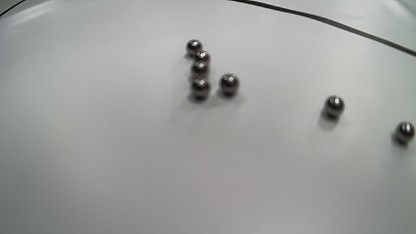ironball: (323, 95, 344, 118), (394, 121, 415, 144), (219, 73, 239, 96), (191, 78, 210, 100), (191, 60, 209, 77), (186, 39, 203, 56), (194, 50, 210, 64)
